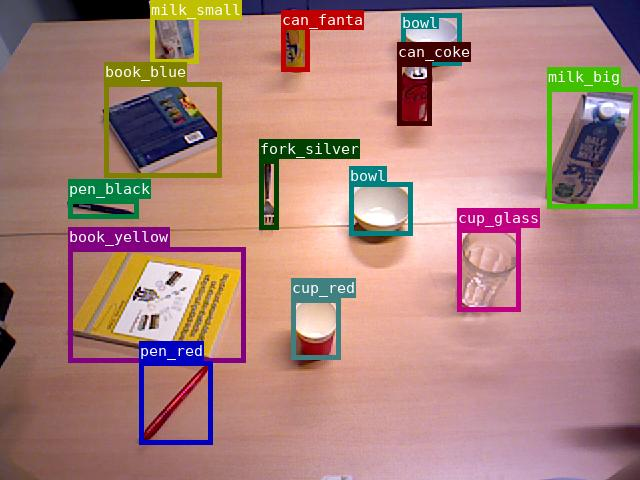book_blue: (104, 82, 221, 177)
book_yellow: (68, 247, 245, 362)
bowl: (349, 182, 412, 235), (401, 13, 461, 65)
can_coke: (397, 62, 431, 125)
can_fanta: (281, 10, 309, 71)
cup_glass: (457, 228, 520, 311)
cup_red: (291, 298, 340, 359)
fork_silver: (259, 159, 278, 229)
milk_big: (547, 87, 637, 208)
milk_small: (150, 0, 198, 63)
pen_black: (68, 199, 138, 218)
pen_red: (139, 361, 212, 444)
